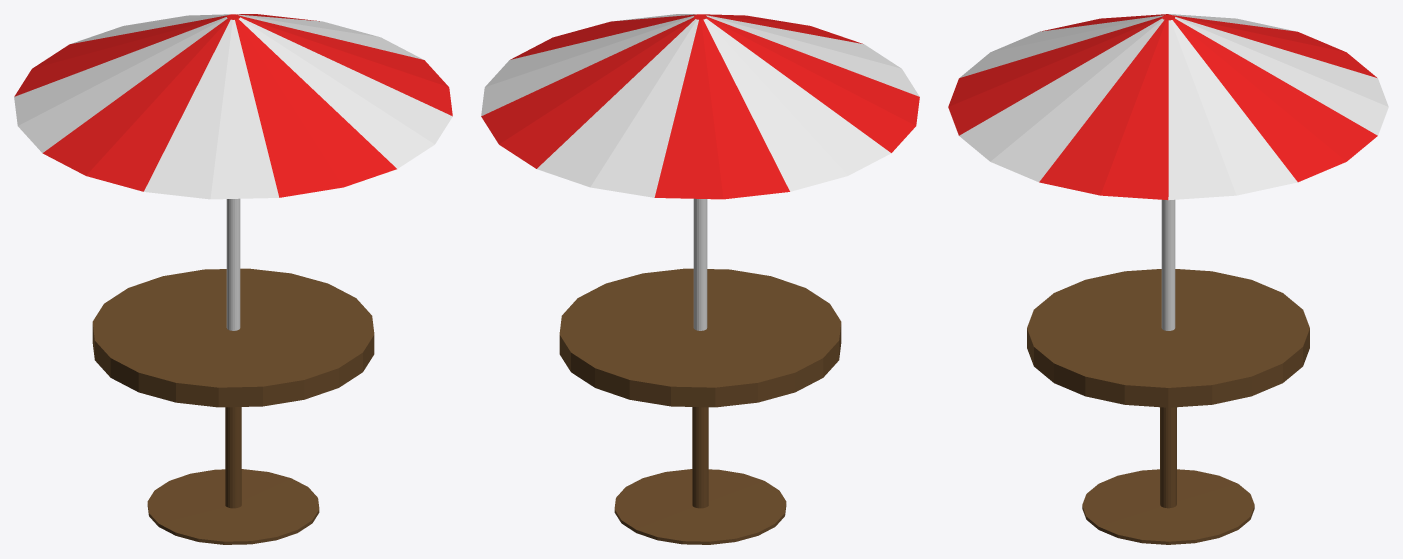
Rendered from MesaSombrillaAbierta.fbx.
3 views of the same model, side by side, from view 1: azimuth 30°, elevation 25°; view 2: azimuth 150°, elevation 25°; view 3: azimuth 270°, elevation 25° (orthographic).
Parts seen in each view (by area): view 1: Cilindro.001, Cilindro; view 2: Cilindro.001, Cilindro; view 3: Cilindro.001, Cilindro.
Boxes of the visible parts, x1,y1,x2,y2 form: Cilindro.001: (14, 14, 452, 330); Cilindro: (92, 268, 374, 544); Cilindro.001: (481, 14, 919, 330); Cilindro: (559, 268, 841, 544); Cilindro.001: (948, 14, 1388, 330); Cilindro: (1027, 269, 1309, 544).
Size of the model in its own units: 311 by 383 by 311.
